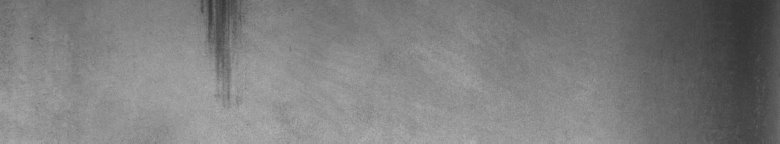ka: (200, 4, 245, 104)
